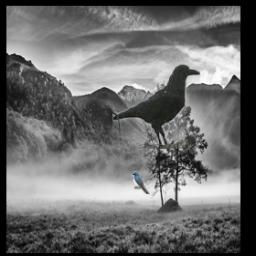Crow: (112, 64, 200, 149)
Swallow: (132, 171, 149, 194)
